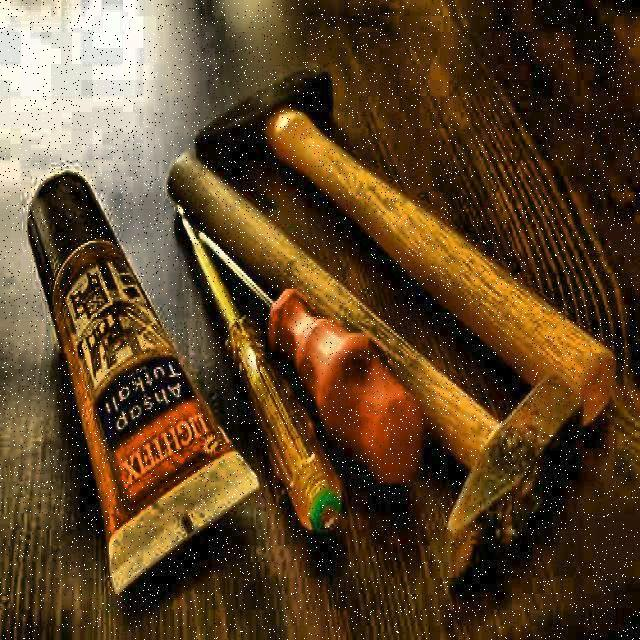hammer: (170, 155, 586, 587), (196, 58, 615, 412)
